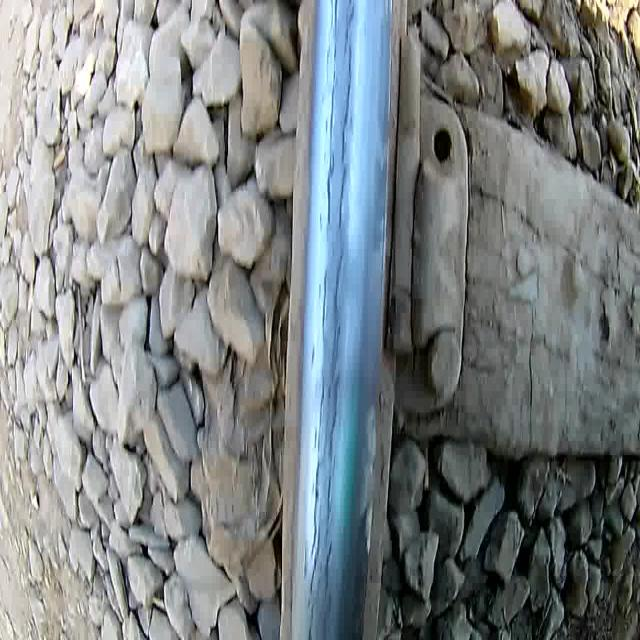Cracks: (299, 242, 348, 640), (320, 0, 358, 238)
